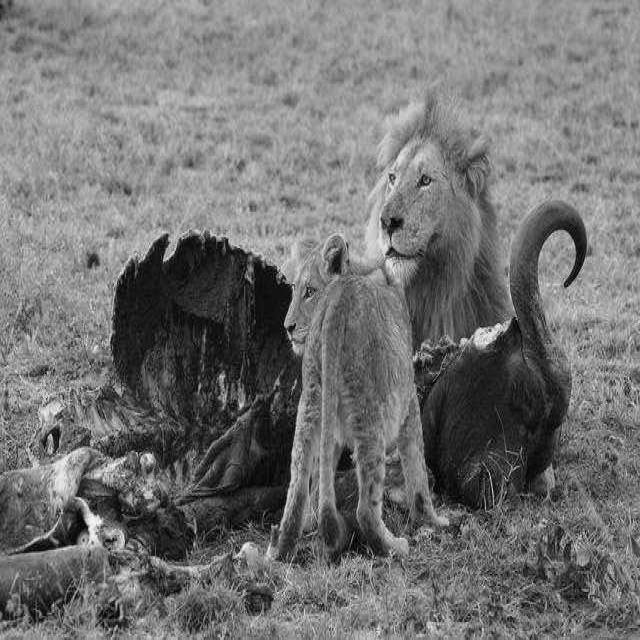Lion: (355, 68, 499, 309)
